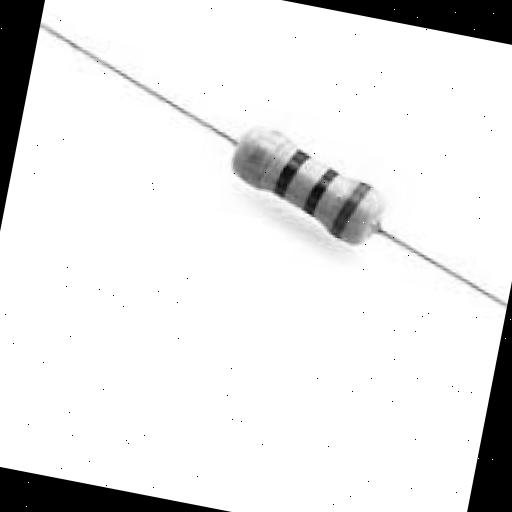RESISTOR: (138, 78, 456, 317)
